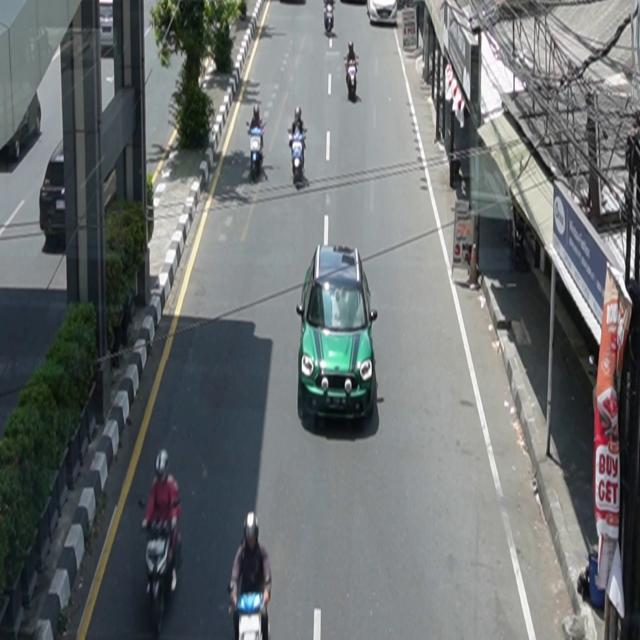car: (297, 243, 379, 426), (367, 1, 398, 26)
